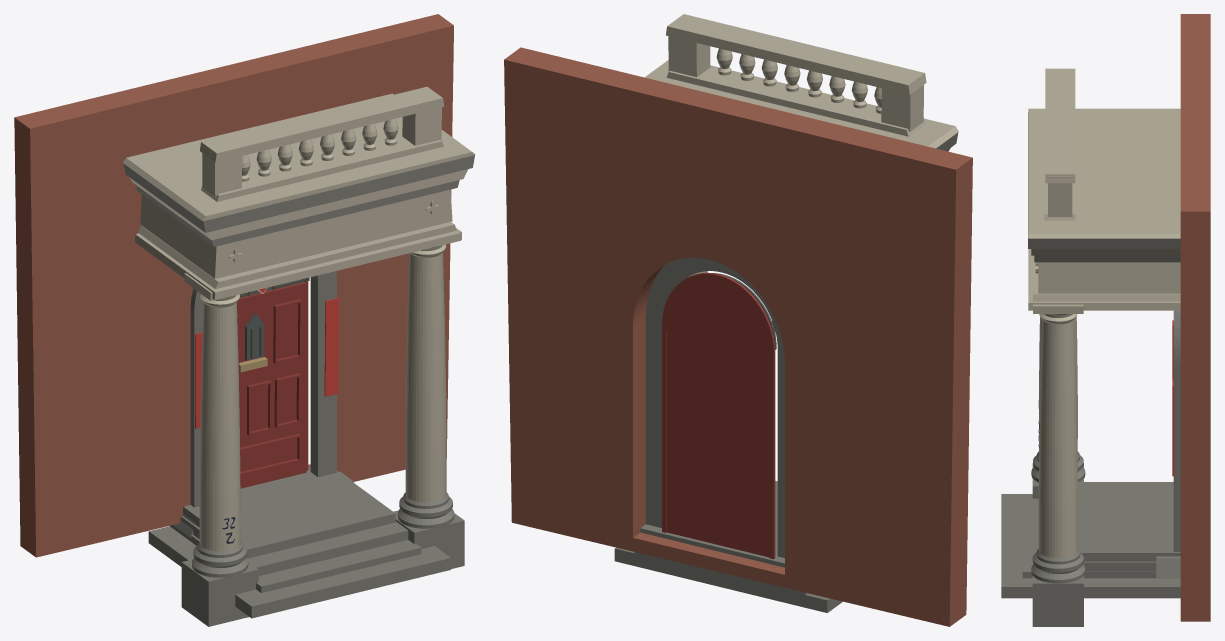
The model's file is full-source.glb.
3 views of the same model, side by side, from view 1: azimuth 30°, elevation 25°; view 2: azimuth 150°, elevation 25°; view 3: azimuth 270°, elevation 25° (orthographic). The views are drawn at different scales.
Parts seen in each view (by area): view 1: 新华路329弄32号乙花园住宅双柱门廊; view 2: 新华路329弄32号乙花园住宅双柱门廊; view 3: 新华路329弄32号乙花园住宅双柱门廊.
Part boxes in pixels (bbox=[...]): 新华路329弄32号乙花园住宅双柱门廊: bbox=[14, 14, 475, 626]; 新华路329弄32号乙花园住宅双柱门廊: bbox=[504, 14, 972, 626]; 新华路329弄32号乙花园住宅双柱门廊: bbox=[1001, 14, 1210, 626].
Bounding box in the file's own units: 4.99 × 5.25 × 2.24.
